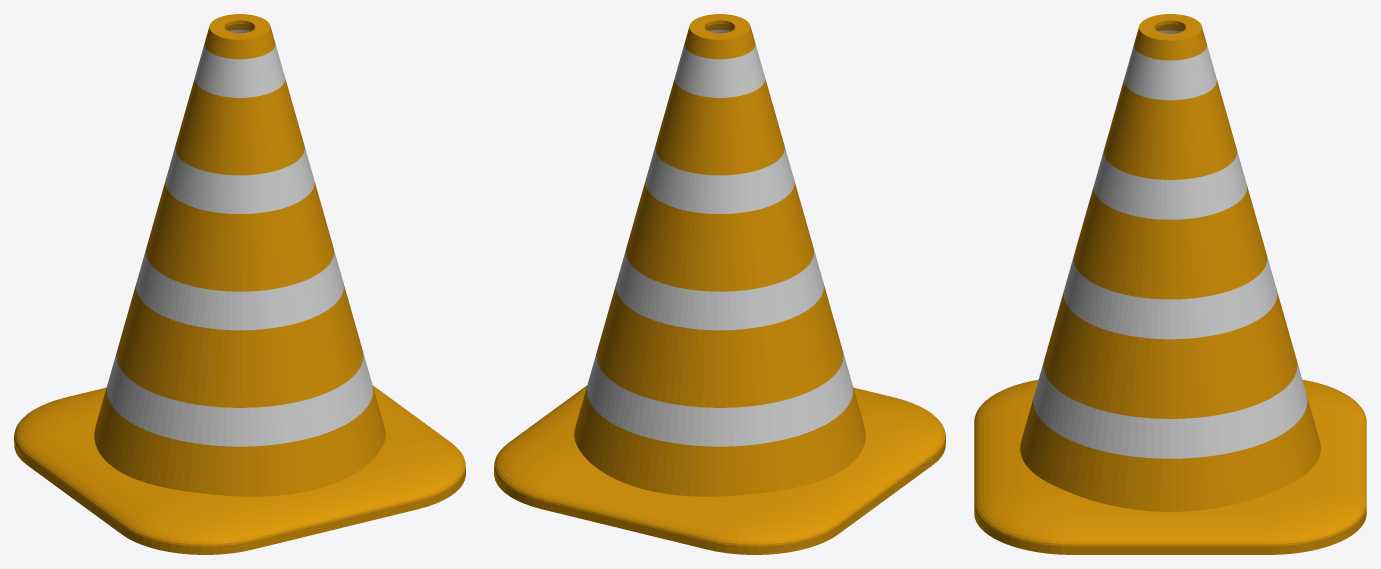
The picture shows the model from 3 angles, left to right: view 1: azimuth 30°, elevation 25°; view 2: azimuth 150°, elevation 25°; view 3: azimuth 270°, elevation 25°; orthographic projection. The views are drawn at different scales.
Parts seen in each view (by area): view 1: Mesh_Mesh_head_geo.001_lambert2SG.001; view 2: Mesh_Mesh_head_geo.001_lambert2SG.001; view 3: Mesh_Mesh_head_geo.001_lambert2SG.001.
Boxes of the visible parts, x1,y1,x2,y2 form: Mesh_Mesh_head_geo.001_lambert2SG.001: [14, 14, 465, 554]; Mesh_Mesh_head_geo.001_lambert2SG.001: [494, 14, 945, 554]; Mesh_Mesh_head_geo.001_lambert2SG.001: [974, 14, 1366, 554].
Size of the model in its own units: 40 by 50 by 40.
